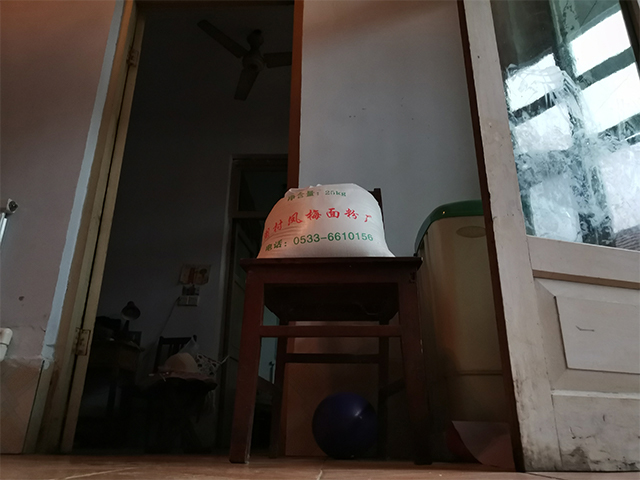stool: (227, 185, 435, 466), (114, 333, 219, 456)
table: (88, 338, 146, 452)
